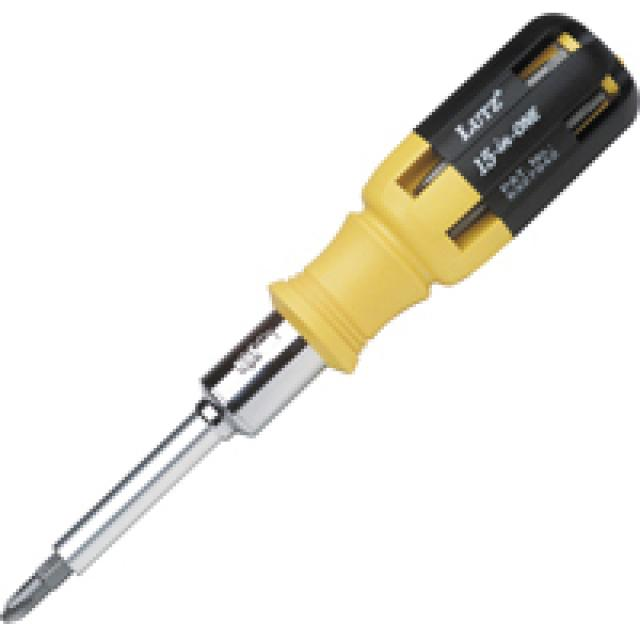screw_driver: (0, 13, 640, 627)
